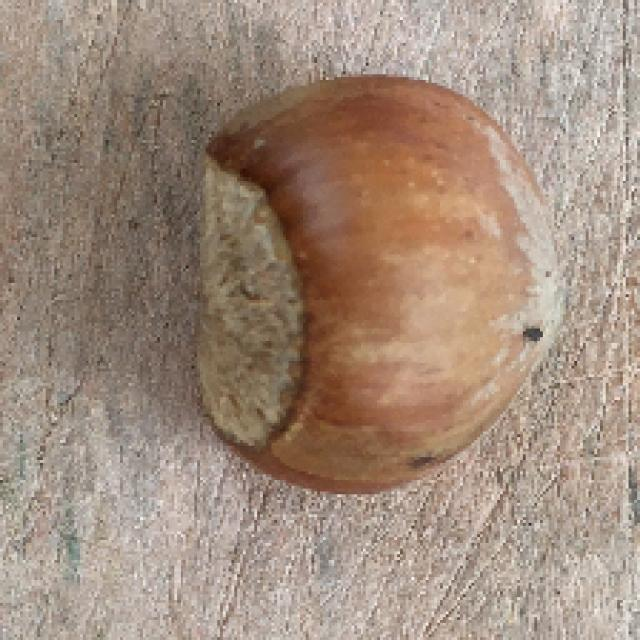damagedHazelnut: (190, 65, 564, 490)
